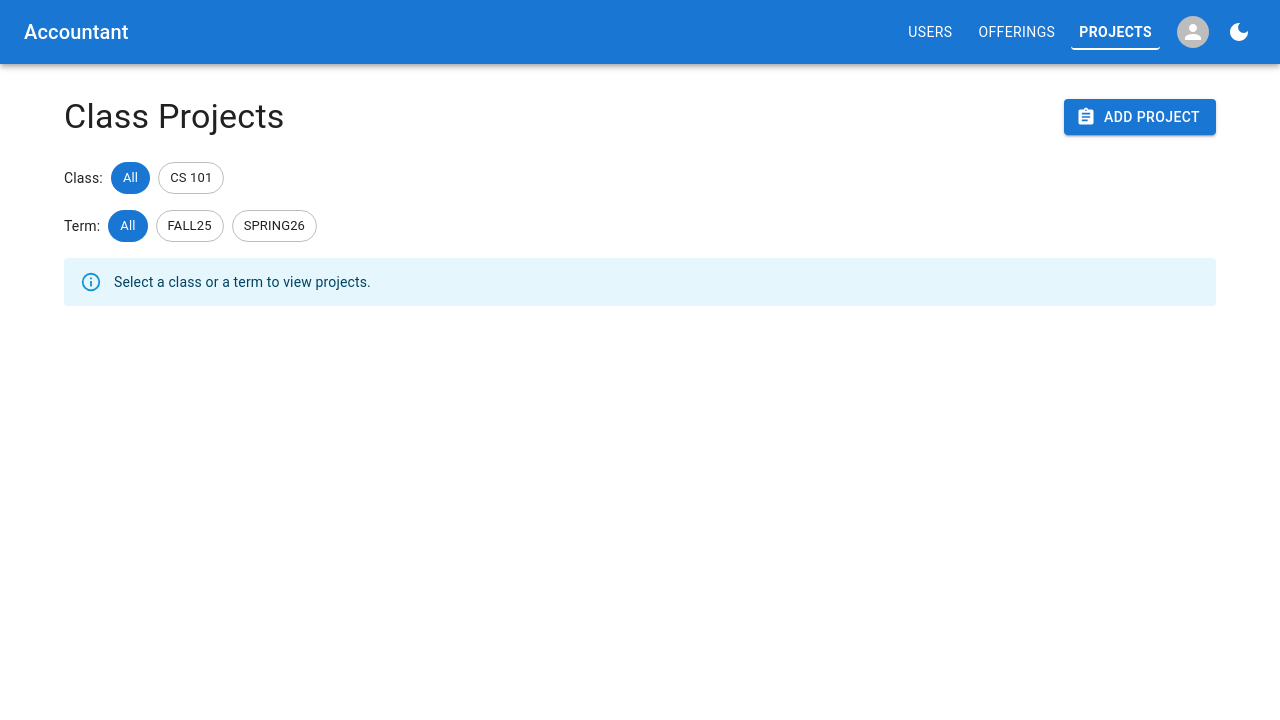
Projects page › closes the create modal when cancelled
Expected: the heading "Class Projects" is shown, [64,96,285,138]
Step 1. Click the button "Add Project" → click(1140, 117), box [1064,99,1216,135]
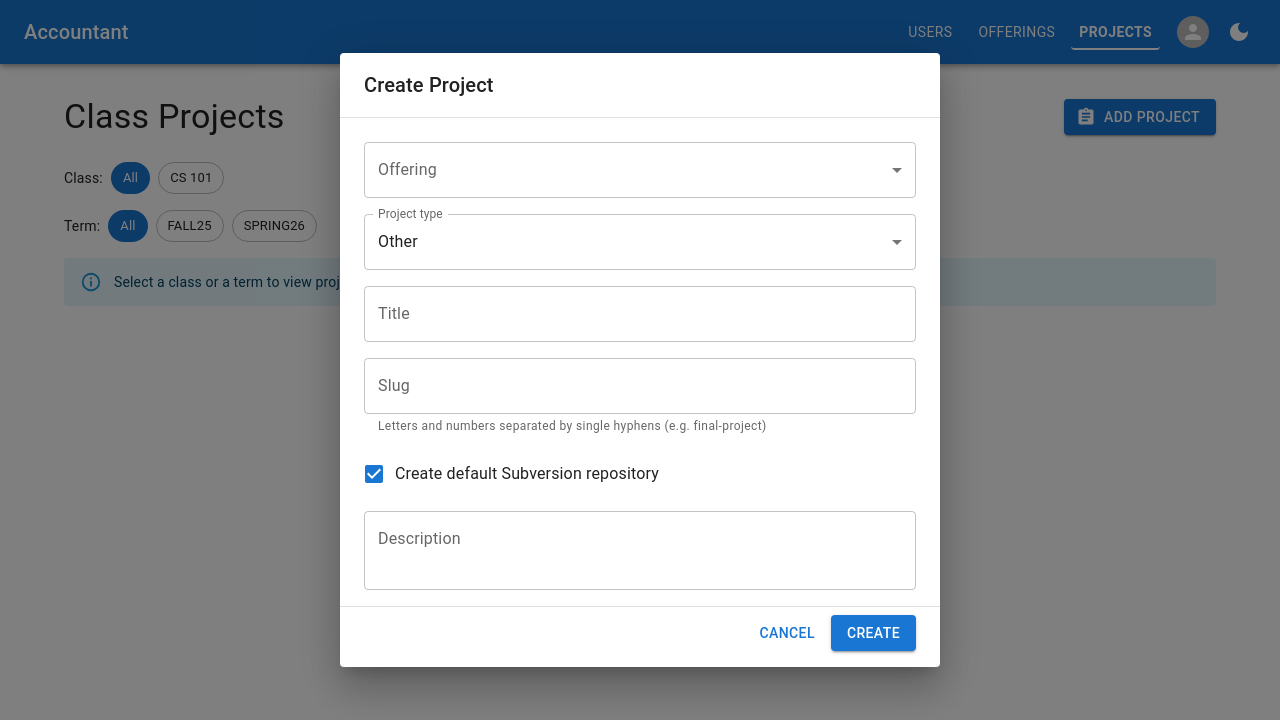
Step 2. Click the button "Cancel" → click(787, 633), box [751,615,823,651]
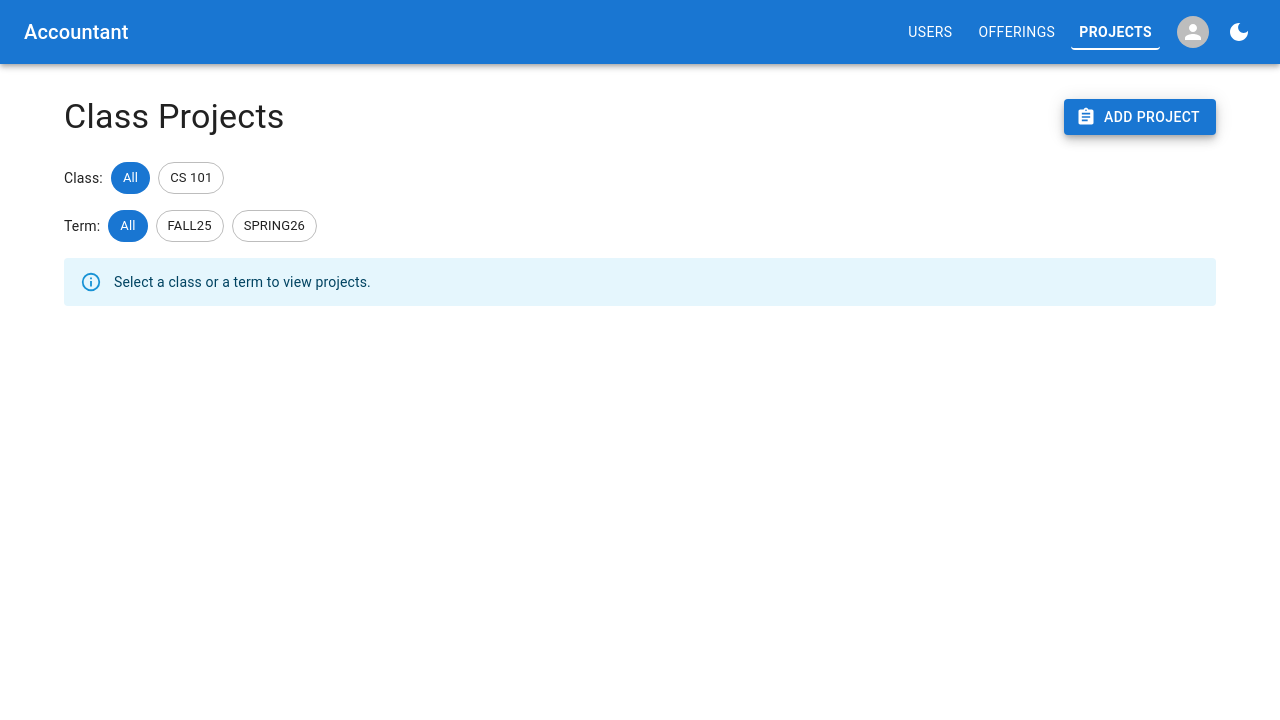
Result: the heading "Create Project" is gone
